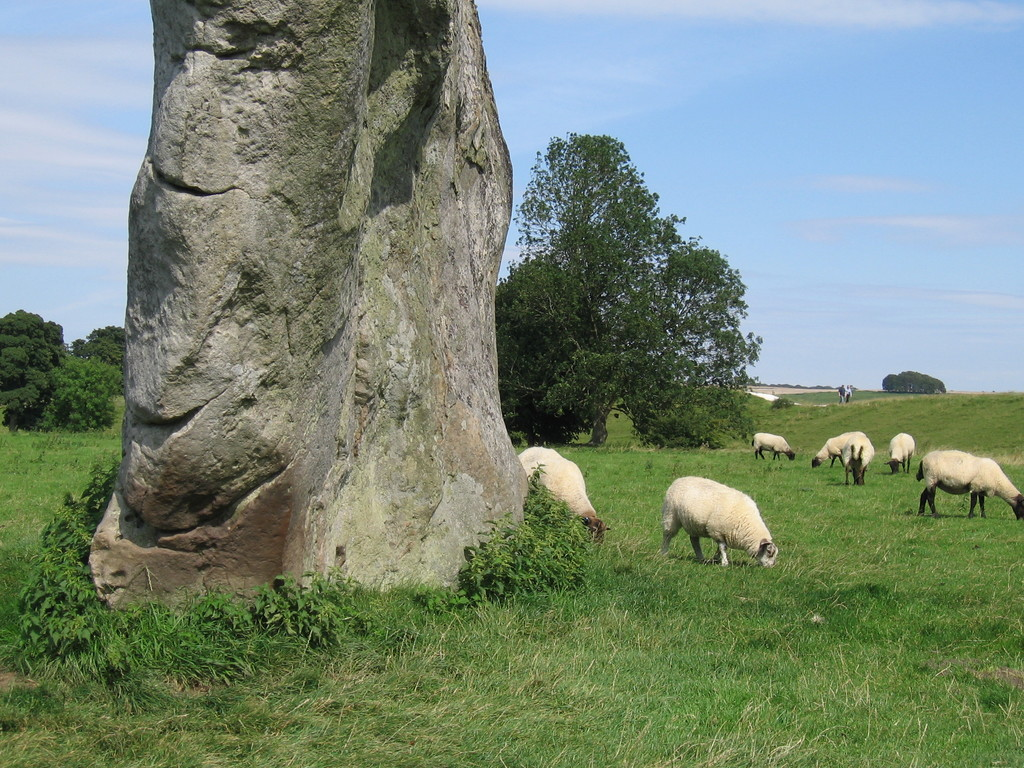sheep: (663, 474, 776, 567), (847, 431, 871, 488), (752, 431, 794, 459), (888, 433, 914, 473)
